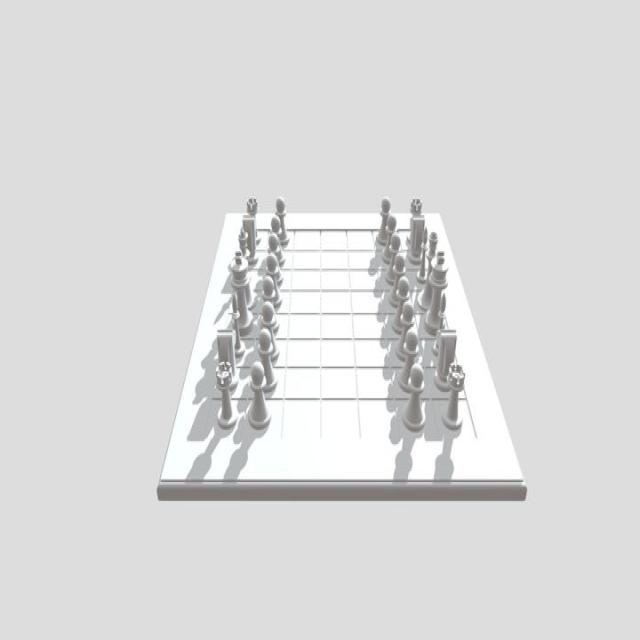chessboard: (159, 215, 524, 489)
